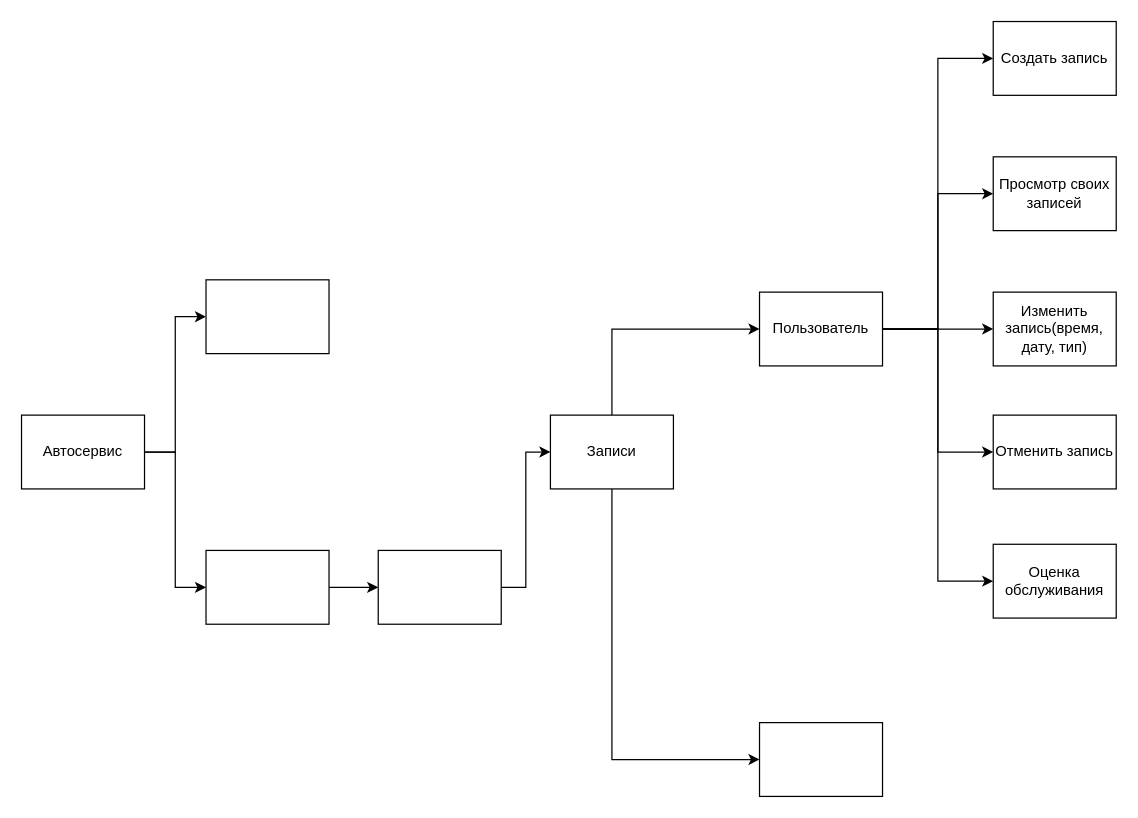
This 1138x818 diagram has some shape labels left out. Here are the shapes that lost their labels. From the top down, the centre of each, then its label:
At pixel 267 316: "Фронтенд".
At pixel 267 586: "Бэкэнд".
At pixel 439 586: "Api".
At pixel 820 758: "Админ панель".
